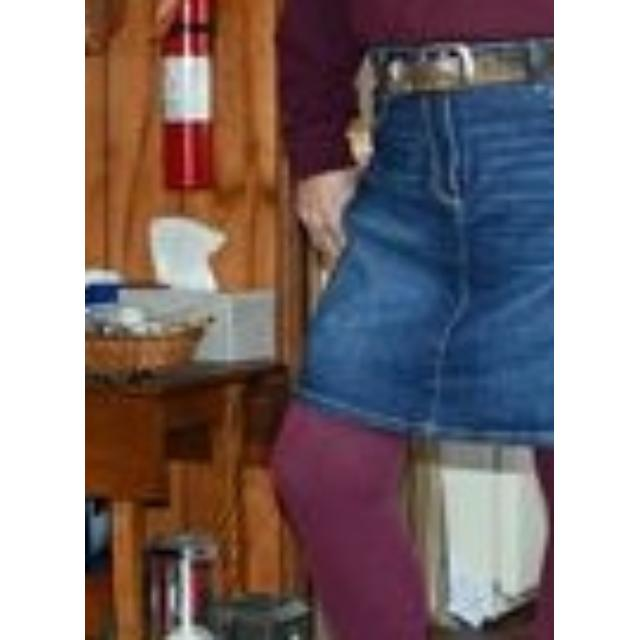denim: (371, 80, 555, 422)
